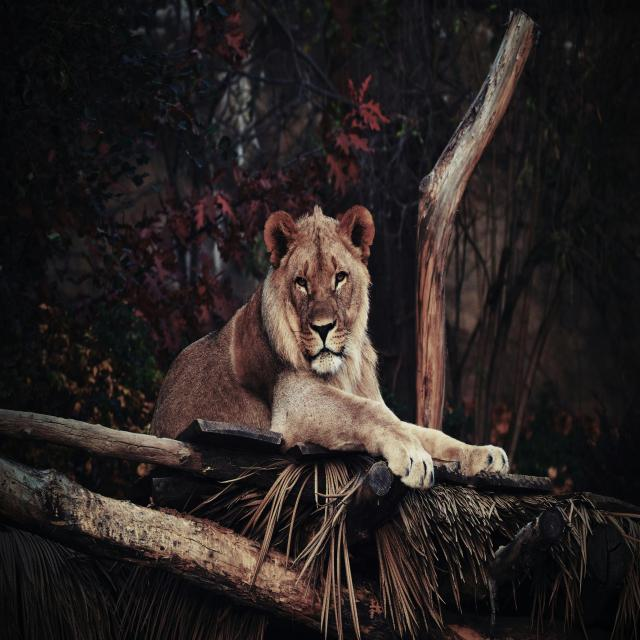Lion: (150, 200, 514, 487)
